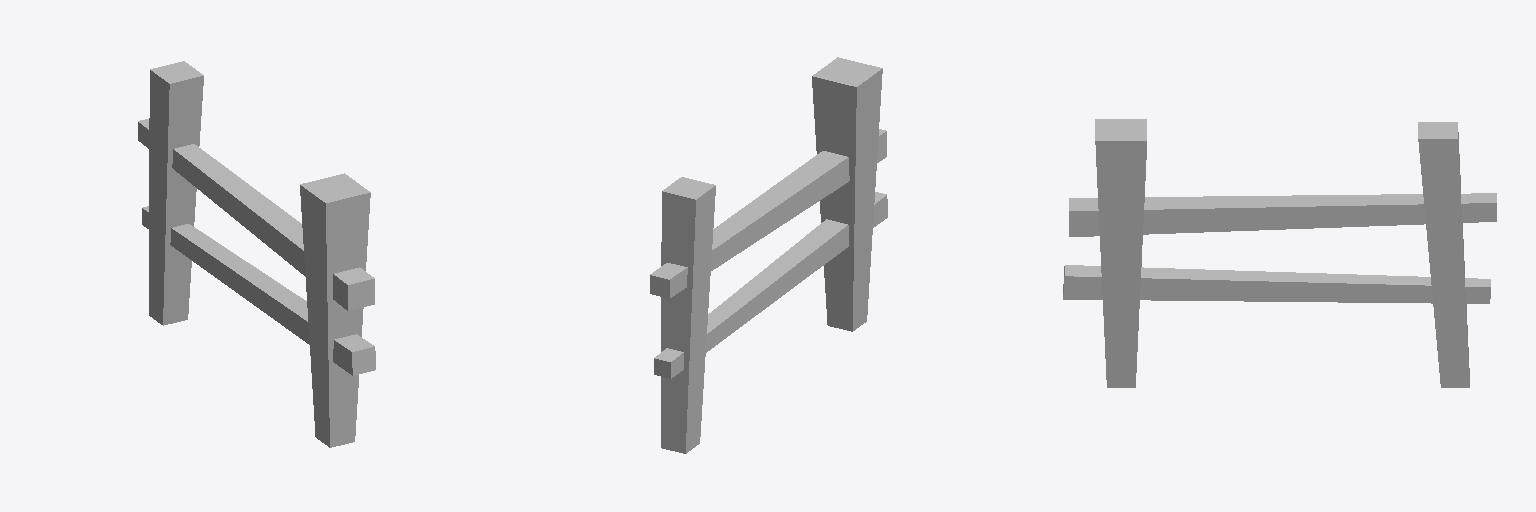
File: fence.obj
3 views of the same model, side by side, from view 1: azimuth 30°, elevation 25°; view 2: azimuth 150°, elevation 25°; view 3: azimuth 270°, elevation 25° (orthographic).
Visible parts, largest first — view 1: fence; view 2: fence; view 3: fence.
Boxes of the visible parts, x1=… form: fence: x1=138, y1=61, x2=375, y2=447; fence: x1=650, y1=57, x2=887, y2=453; fence: x1=1063, y1=119, x2=1496, y2=387.
Bounding box in the file's own units: 0.2983 × 1.59 × 2.48.